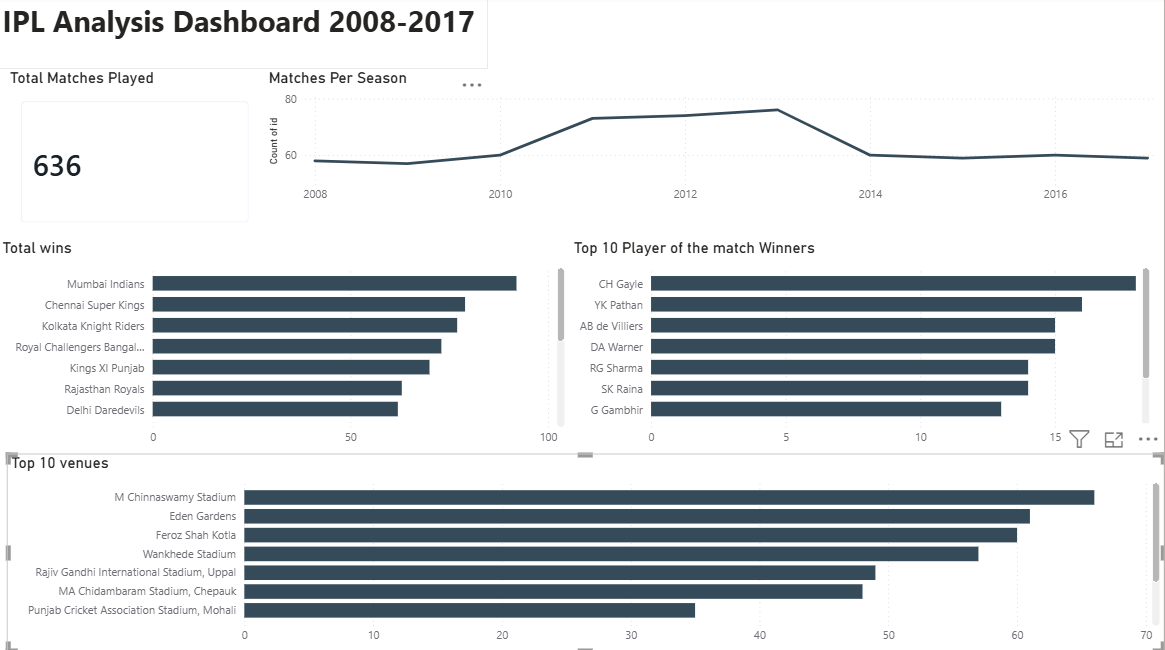

The page's visual inventory and layout, read from the dashboard file:
{"tool":"powerbi","page":{"name":"Page 1","canvas":[1280,720],"ordinal":0},"visuals":[{"type":"barChart","title":"Total wins","fields":{"Category":["matches.winner"],"Y":["CountNonNull(matches.id)"]},"box":[0,266.2,627.1,236],"z":0},{"type":"lineChart","title":"Matches Per Season","fields":{"Category":["matches.season"],"Y":["CountNonNull(matches.id)"]},"box":[292.3,79.6,988,156.4],"z":1},{"type":"barChart","title":"Top 10 Player of the match Winners","fields":{"Category":["matches.player_of_match"],"Y":["CountNonNull(matches.id)"]},"box":[627.1,266.2,642.2,236],"z":2},{"type":"barChart","title":"Top 10 venues","fields":{"Category":["matches.venue"],"Y":["CountNonNull(matches.id)"]},"box":[0,502.2,1280.3,218.2],"z":3},{"type":"cardVisual","title":"Total Matches Played","fields":{"Data":["CountNonNull(matches.id)"]},"box":[8.2,79.6,284,186.6],"z":4},{"type":"textbox","box":[0,0,537.9,79.6],"z":5}]}

Visuals, with their boxes in screenshot pixels (x1, y1, x2, y2), scaled from the page's 1280x720 canvas onto the 1165x650 screenshot:
"Total wins" barChart: (x1=0, y1=240, x2=571, y2=453)
"Matches Per Season" lineChart: (x1=266, y1=72, x2=1164, y2=213)
"Top 10 Player of the match Winners" barChart: (x1=571, y1=240, x2=1155, y2=453)
"Top 10 venues" barChart: (x1=0, y1=453, x2=1164, y2=649)
"Total Matches Played" cardVisual: (x1=7, y1=72, x2=266, y2=240)
textbox: (x1=0, y1=0, x2=490, y2=72)
